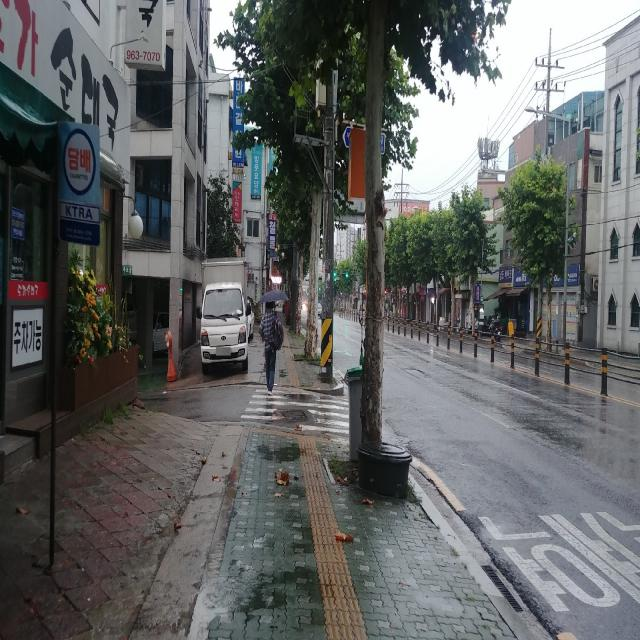횡단보도: (239, 386, 351, 439)
